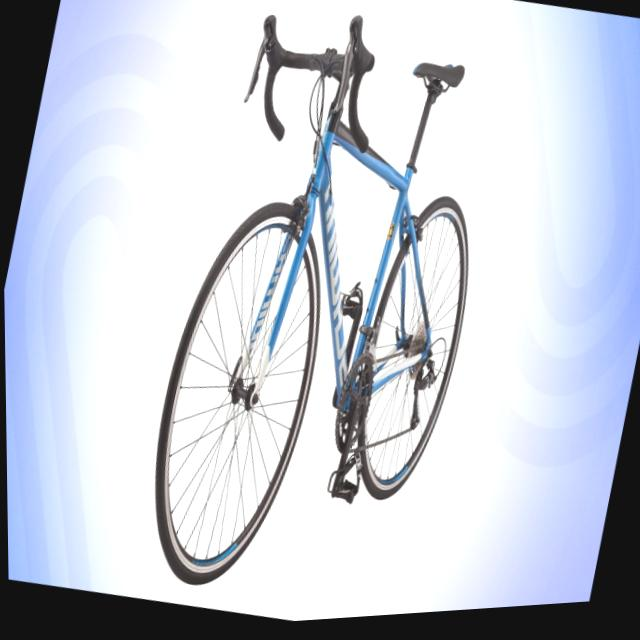road-bike: (122, 0, 526, 634)
